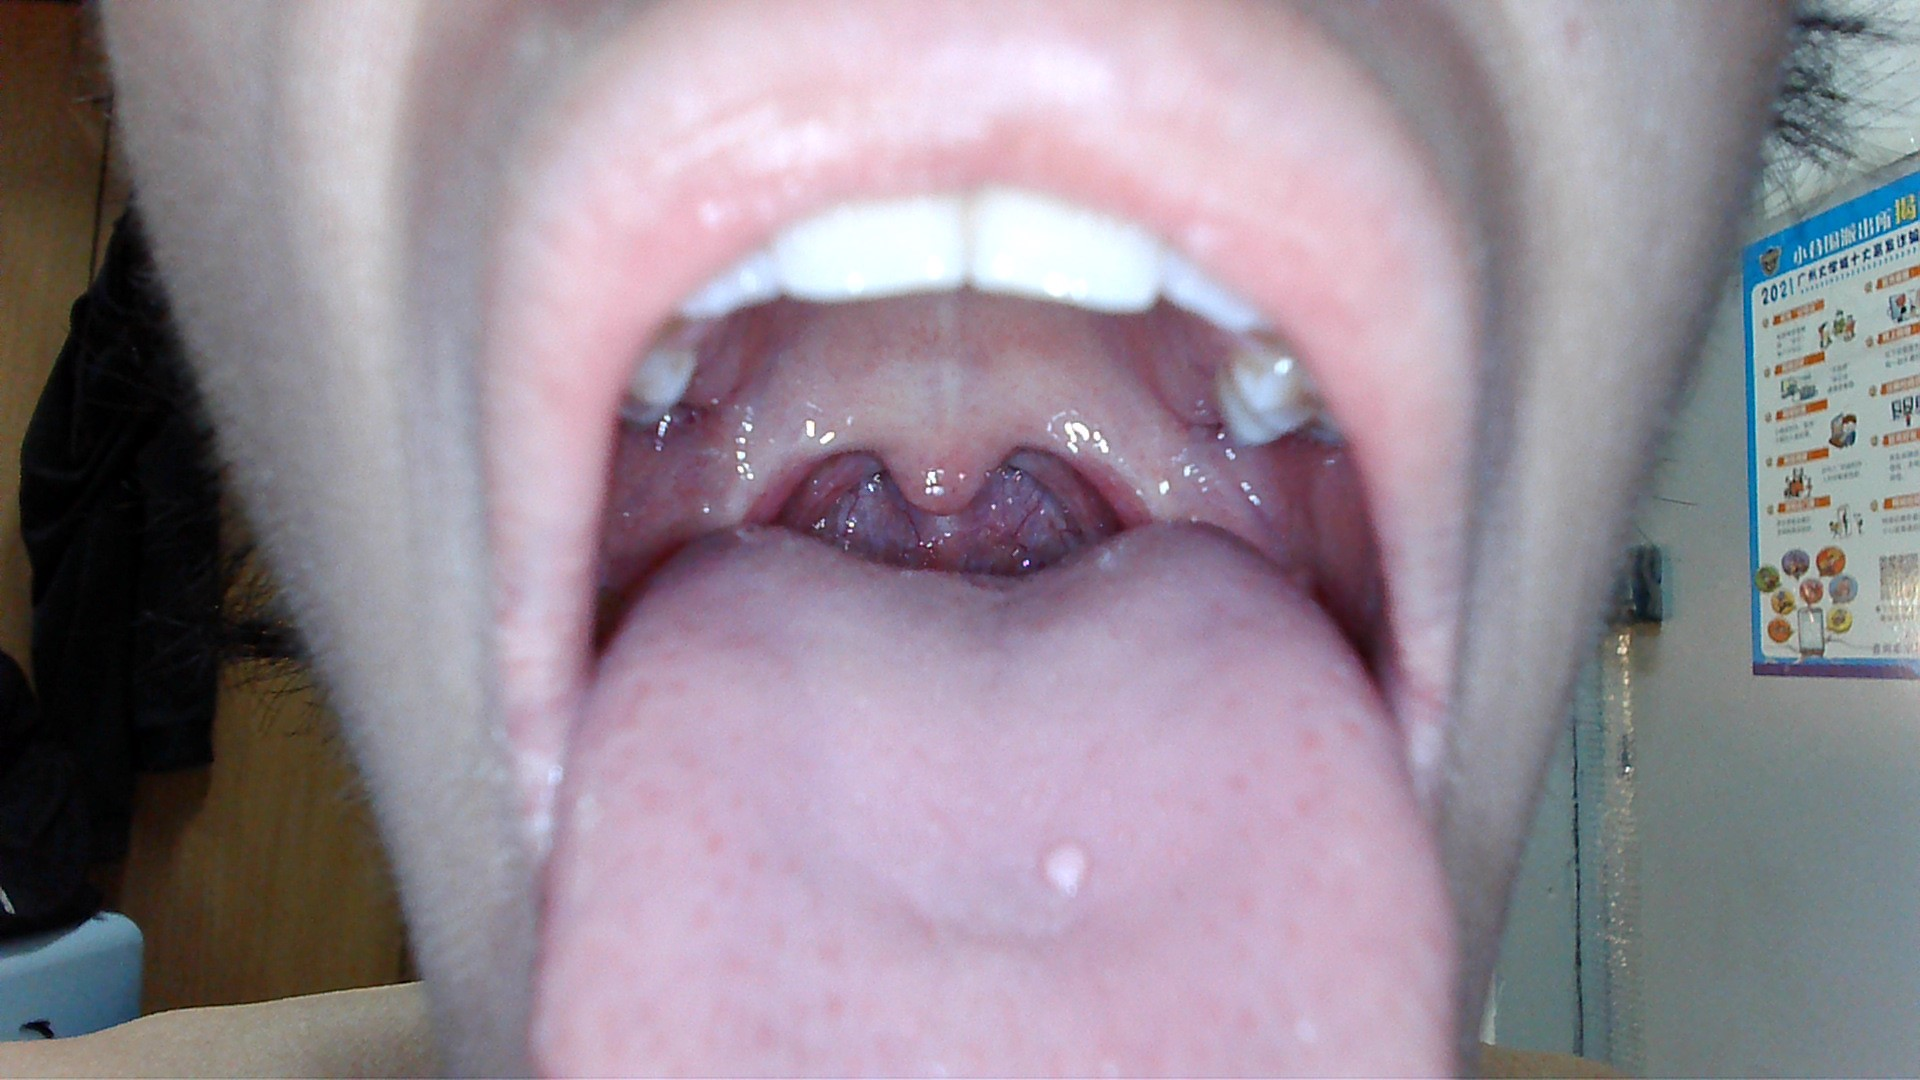throat: (1069, 415, 1158, 527), (738, 433, 837, 524)
